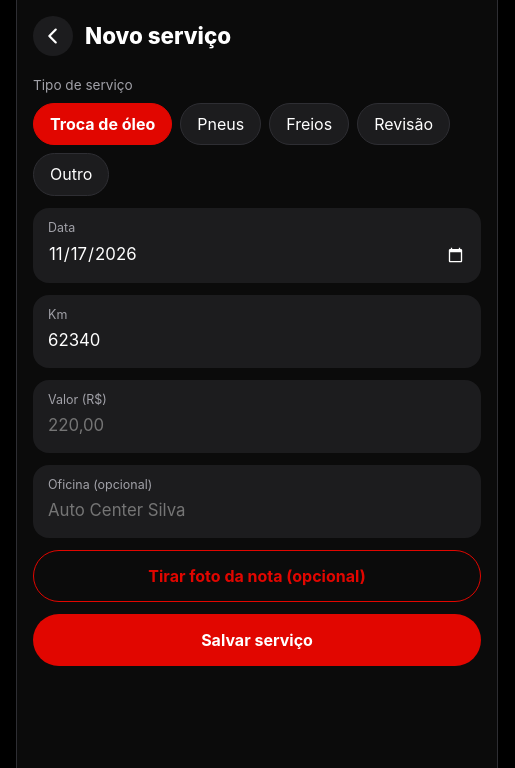
T03 · Novo serviço › mostra os erros de validação da API nos campos
Click the button "Salvar serviço": (257, 640) [33,614,481,666]
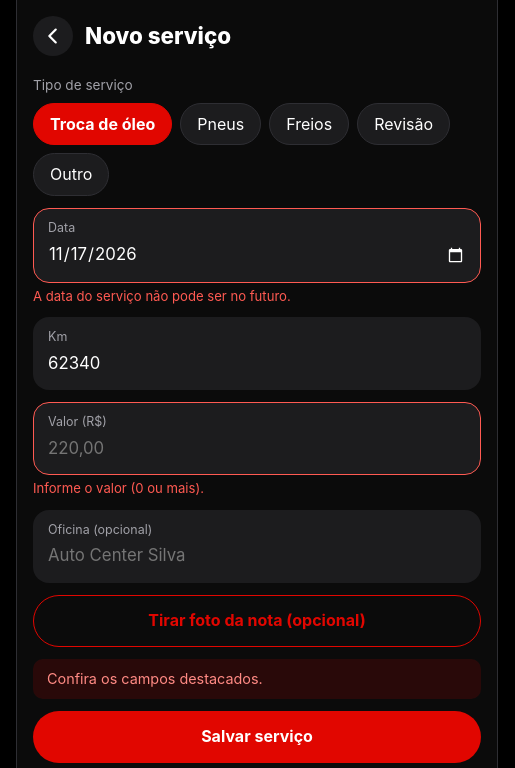
Result: the text "Informe o valor (0 ou mais)." is shown at [33,480,204,496]
Result: the text "A data do serviço não pode ser no futuro." is shown at [33,288,291,304]
